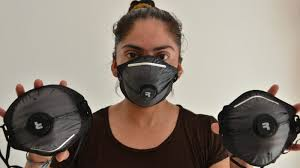mask: (111, 14, 186, 111)
